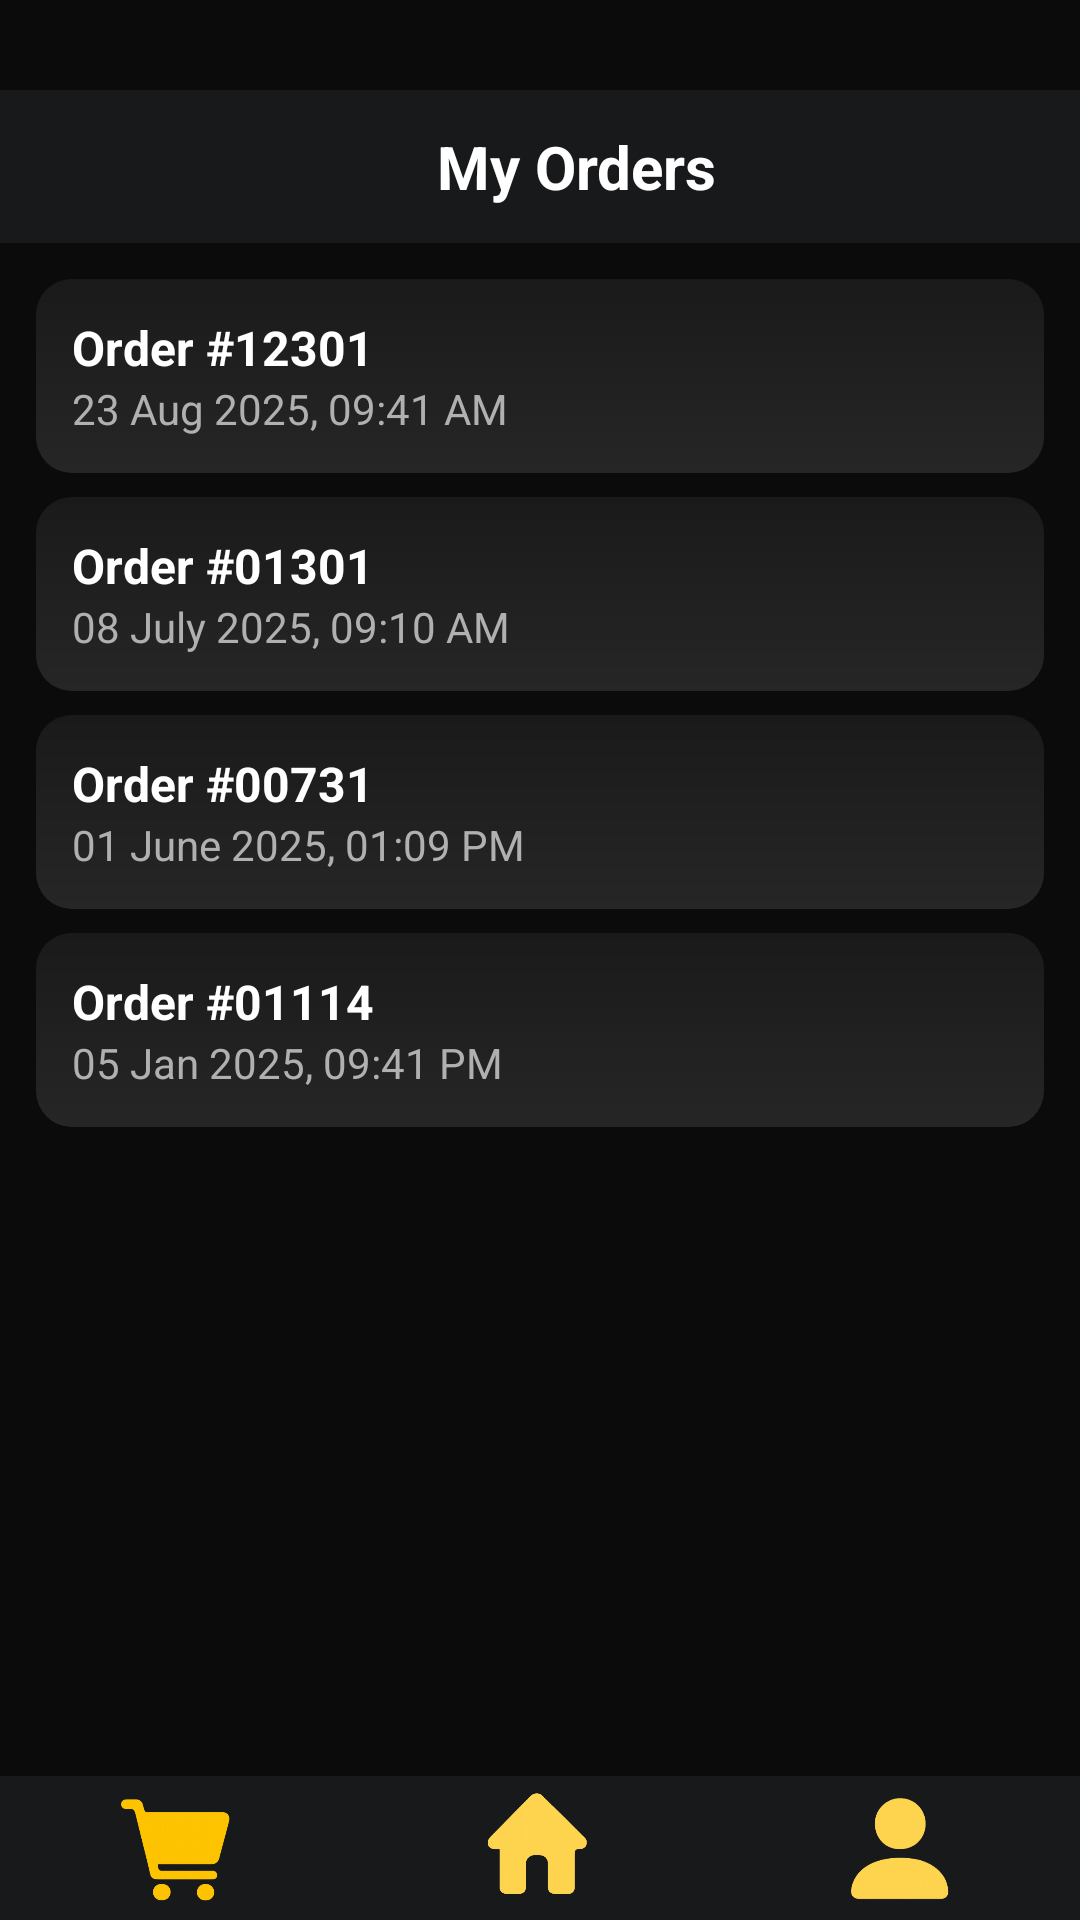

Icon bounding boxes for this 1080x1920 phone screenshot, format bbox=[x1, y1, x2, y2]:
cart: bbox=[121, 1799, 230, 1901]
home: bbox=[488, 1793, 587, 1894]
profile: bbox=[851, 1798, 949, 1899]
